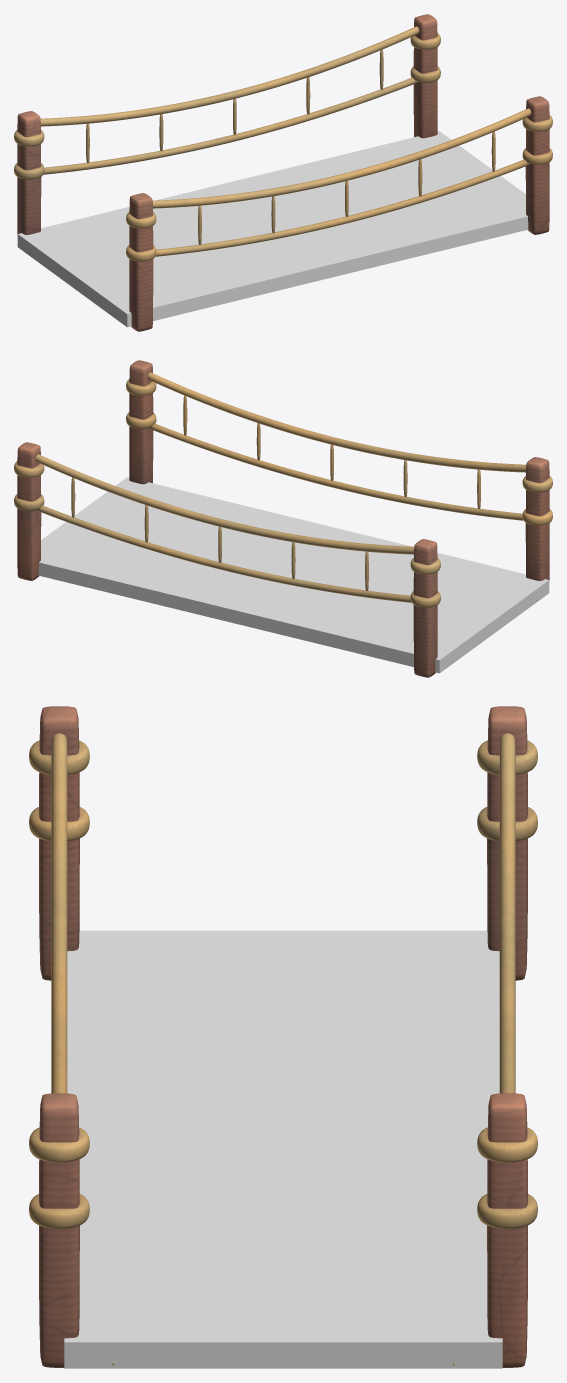
Rendered from SD_P07_RopeBridge.fbx.
3 views of the same model, one above another, from view 1: azimuth 30°, elevation 25°; view 2: azimuth 150°, elevation 25°; view 3: azimuth 270°, elevation 25° (orthographic). The views are drawn at different scales.
Parts seen in each view (by area): view 1: COL_Deck, Rope_L_LOD0, Rope_R_LOD0, Post_01_LOD0, Post_03_LOD0, Post_02_LOD0, Post_04_LOD0; view 2: COL_Deck, Rope_R_LOD0, Rope_L_LOD0, Post_02_LOD0, Post_04_LOD0, Post_01_LOD0, Post_03_LOD0; view 3: COL_Deck, Post_03_LOD0, Post_04_LOD0, Post_01_LOD0, Post_02_LOD0, Rope_R_LOD0, Rope_L_LOD0.
Boxes of the visible parts, left/top/right/bottom form: COL_Deck: left=17, top=131, right=528, bottom=327; Rope_L_LOD0: left=29, top=26, right=419, bottom=254; Rope_R_LOD0: left=114, top=108, right=531, bottom=316; Post_01_LOD0: left=126, top=193, right=156, bottom=331; Post_03_LOD0: left=522, top=96, right=552, bottom=234; Post_02_LOD0: left=14, top=111, right=44, bottom=234; Post_04_LOD0: left=410, top=14, right=440, bottom=138; COL_Deck: left=38, top=477, right=549, bottom=673; Rope_R_LOD0: left=147, top=372, right=537, bottom=600; Rope_L_LOD0: left=35, top=454, right=452, bottom=662; Post_02_LOD0: left=410, top=539, right=440, bottom=677; Post_04_LOD0: left=14, top=442, right=44, bottom=580; Post_01_LOD0: left=522, top=457, right=552, bottom=580; Post_03_LOD0: left=126, top=360, right=156, bottom=484; COL_Deck: left=64, top=930, right=502, bottom=1368; Post_03_LOD0: left=29, top=1093, right=89, bottom=1367; Post_04_LOD0: left=477, top=1093, right=537, bottom=1367; Post_01_LOD0: left=29, top=706, right=89, bottom=980; Post_02_LOD0: left=477, top=706, right=537, bottom=980; Rope_R_LOD0: left=51, top=733, right=114, bottom=1365; Rope_L_LOD0: left=452, top=733, right=515, bottom=1365.
Size of what is drawn, in the model's own units: 4.02 by 1.2 by 2.09.
